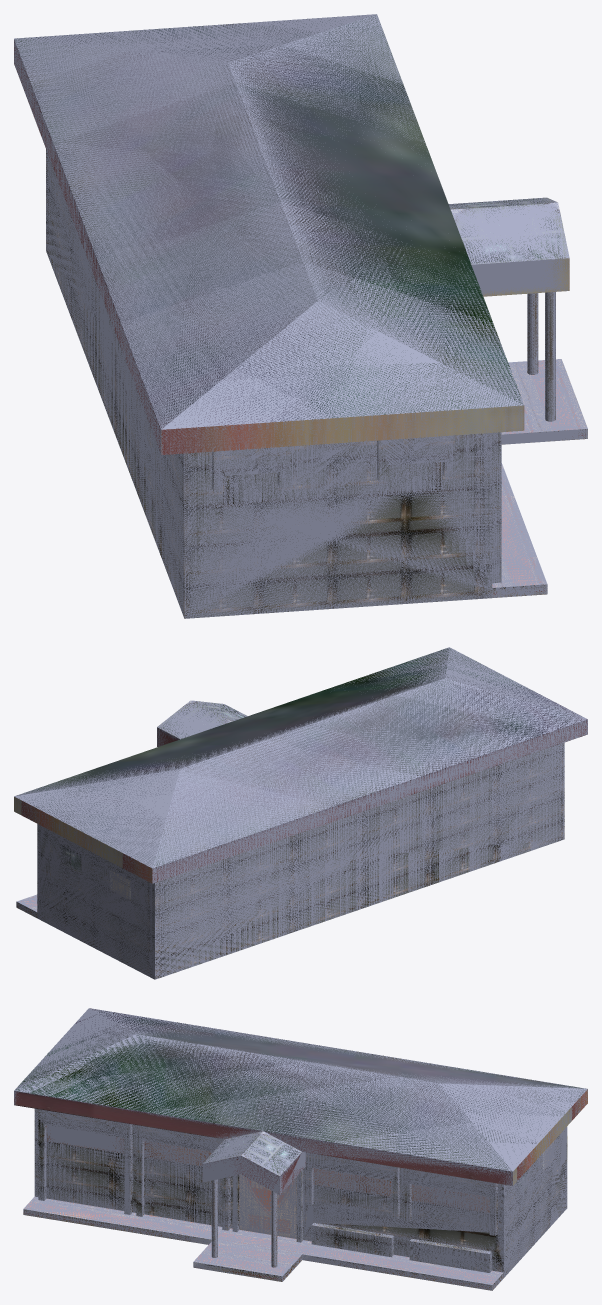
File: F2700008-總務處.fbx
3 renders of one model, top to bottom at view 1: azimuth 30°, elevation 25°; view 2: azimuth 150°, elevation 25°; view 3: azimuth 270°, elevation 25°, orthographic. The views are drawn at different scales.
Visible parts, largest first — view 1: Model; view 2: Model; view 3: Model.
Boxes of the visible parts, x1,y1,x2,y2 form: Model: [14, 14, 587, 618]; Model: [14, 647, 587, 979]; Model: [14, 1008, 587, 1290].
Size of the model in its own units: 12.44 by 5 by 18.02.
